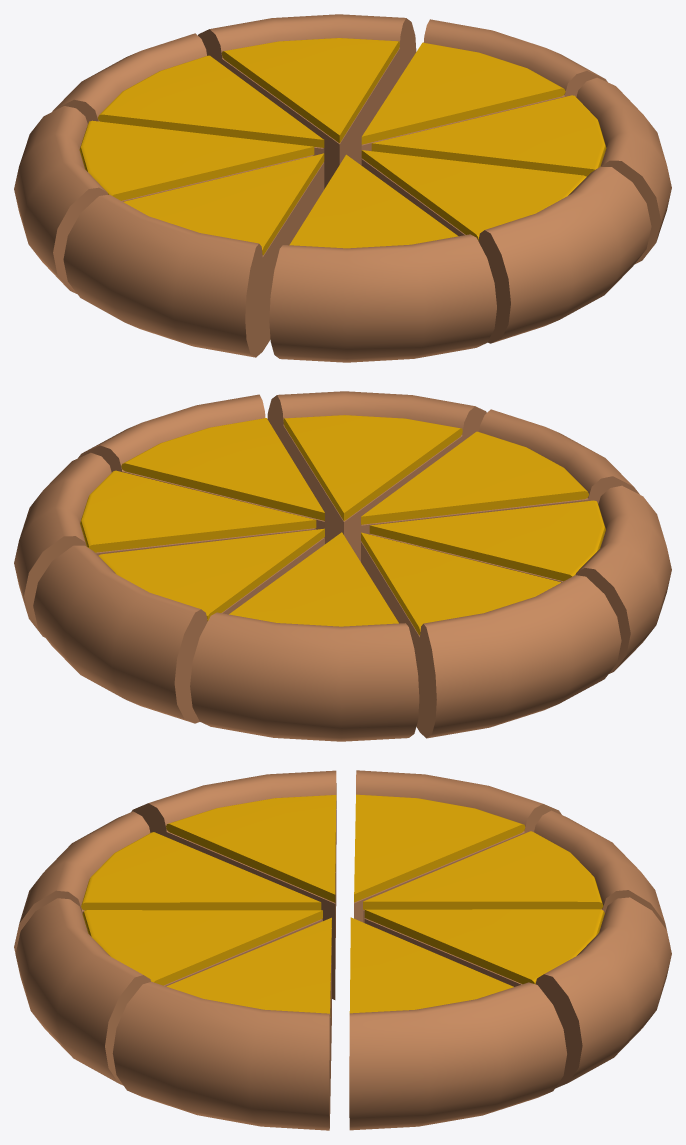
Rendered from Pizza_8_slice.fbx.
3 views of the same model, one above another, from view 1: azimuth 30°, elevation 25°; view 2: azimuth 150°, elevation 25°; view 3: azimuth 270°, elevation 25° (orthographic). The views are drawn at different scales.
Parts seen in each view (by area): view 1: pasted__pCylinder8, pasted__pCylinder6, polySurface7, polySurface8, pasted__pCylinder4, pasted__pCylinder17, polySurface3, polySurface5, polySurface6, pasted__pCylinder3, pasted__pCylinder5, polySurface1 (+4 smaller); view 2: pasted__pCylinder18, pasted__pCylinder3, polySurface1, polySurface3, pasted__pCylinder5, pasted__pCylinder7, polySurface8, polySurface6, polySurface5, pasted__pCylinder6, pasted__pCylinder4, polySurface7 (+4 smaller); view 3: polySurface4, polySurface2, polySurface1, polySurface7, pasted__pCylinder7, pasted__pCylinder17, polySurface5, polySurface6, pasted__pCylinder4, pasted__pCylinder5, polySurface8, polySurface3 (+4 smaller).
Boxes of the visible parts, bbox=[...] form: pasted__pCylinder8: bbox=[269, 234, 496, 362]; pasted__pCylinder6: bbox=[63, 162, 324, 357]; polySurface7: bbox=[361, 159, 651, 343]; polySurface8: bbox=[371, 95, 606, 176]; pasted__pCylinder4: bbox=[79, 120, 314, 200]; pasted__pCylinder17: bbox=[98, 55, 324, 147]; polySurface3: bbox=[361, 42, 565, 144]; polySurface5: bbox=[221, 38, 399, 143]; polySurface6: bbox=[361, 150, 586, 240]; pasted__pCylinder3: bbox=[14, 106, 313, 293]; pasted__pCylinder5: bbox=[123, 153, 324, 255]; polySurface1: bbox=[198, 14, 416, 188]; pasted__pCylinder18: bbox=[190, 612, 419, 741]; pasted__pCylinder3: bbox=[361, 541, 621, 738]; polySurface1: bbox=[33, 537, 324, 723]; polySurface3: bbox=[80, 470, 316, 552]; pasted__pCylinder5: bbox=[369, 500, 605, 581]; pasted__pCylinder7: bbox=[361, 431, 588, 524]; polySurface8: bbox=[121, 418, 324, 520]; polySurface6: bbox=[283, 415, 462, 520]; polySurface5: bbox=[98, 528, 324, 620]; pasted__pCylinder6: bbox=[370, 485, 671, 673]; pasted__pCylinder4: bbox=[361, 532, 560, 635]; polySurface7: bbox=[267, 391, 486, 561]; polySurface4: bbox=[112, 928, 331, 1130]; polySurface2: bbox=[349, 982, 566, 1130]; polySurface1: bbox=[364, 897, 671, 1088]; polySurface7: bbox=[15, 898, 322, 1085]; pasted__pCylinder7: bbox=[81, 832, 321, 910]; pasted__pCylinder17: bbox=[363, 831, 603, 909]; polySurface5: bbox=[364, 909, 604, 984]; polySurface6: bbox=[82, 910, 322, 985]; pasted__pCylinder4: bbox=[354, 794, 525, 902]; pasted__pCylinder5: bbox=[166, 795, 336, 902]; polySurface8: bbox=[166, 917, 331, 1016]; polySurface3: bbox=[349, 917, 513, 1013].
Bounding box in the file's own units: 2.18 × 0.4217 × 2.14.
